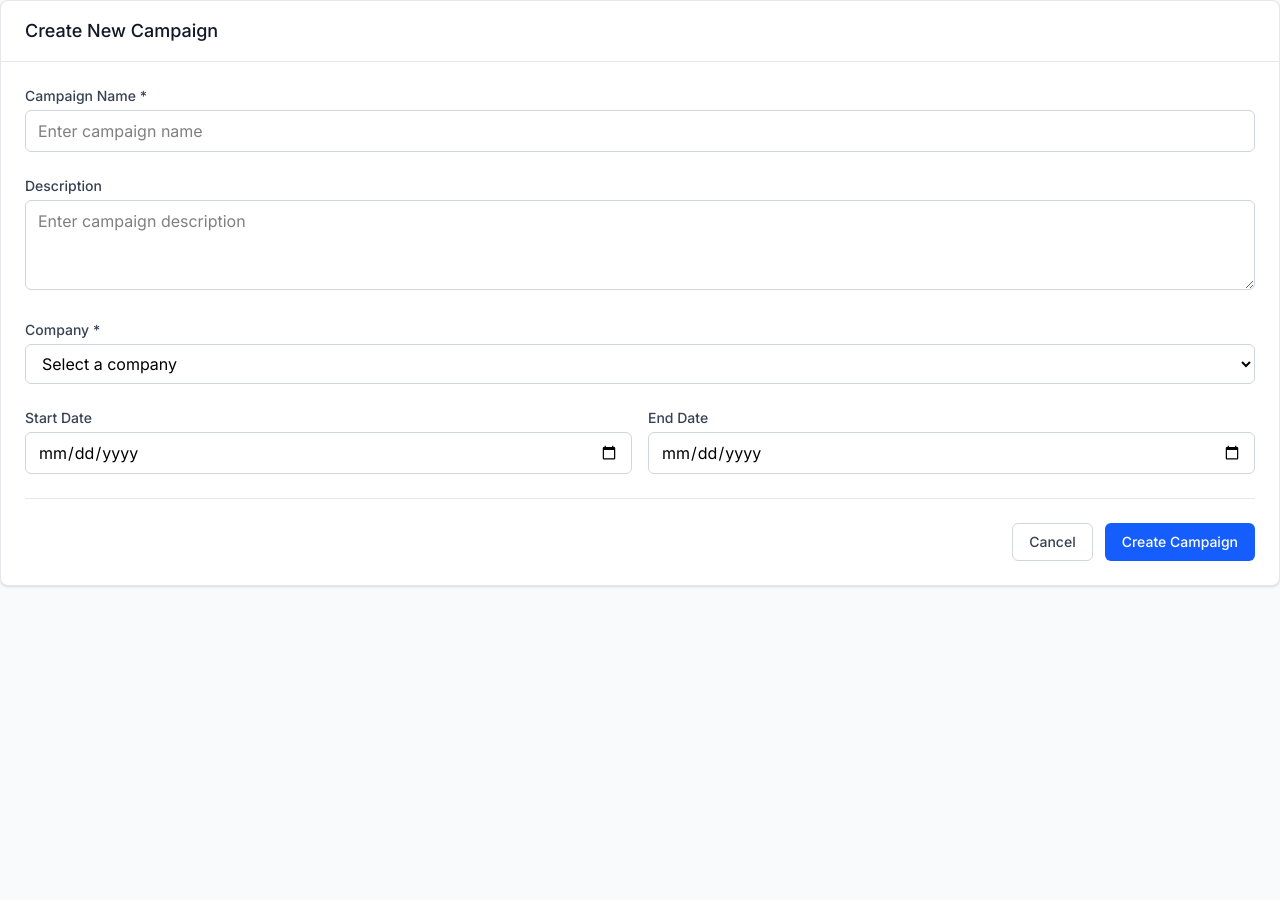
Test case: CampaignForm › Form Validation › shows error when end date is before start date
Check: the heading "Create New Campaign" is shown, box [25,20,218,41]
Fill required fields with invalid date range
Step 1. Type "Test Campaign" into the field labelled "Campaign Name *" → (640, 131), box [25,110,1255,152]
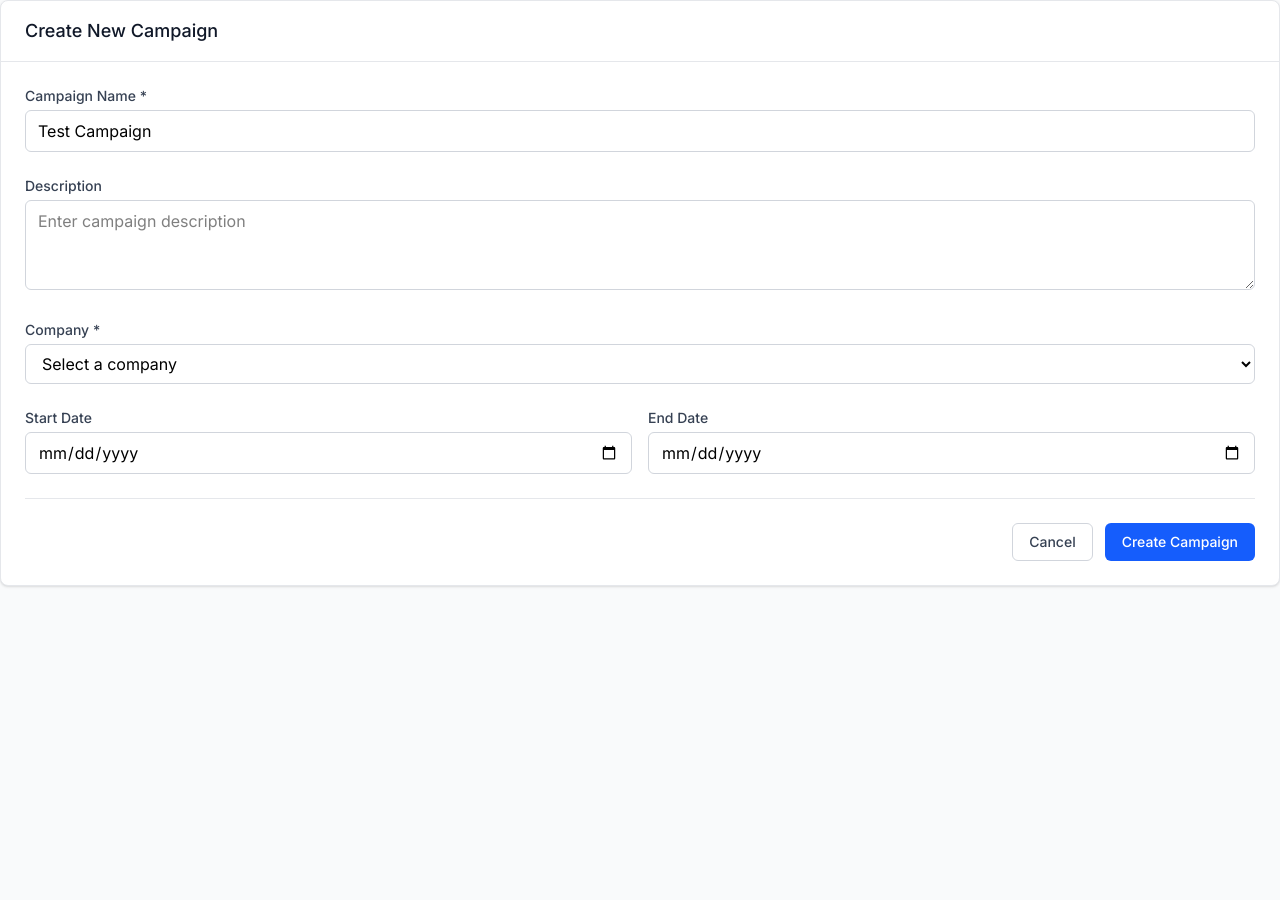
Step 2. Select "Test Company 1" in the dropdown labelled "Company *" → (640, 364), box [25,344,1255,384]
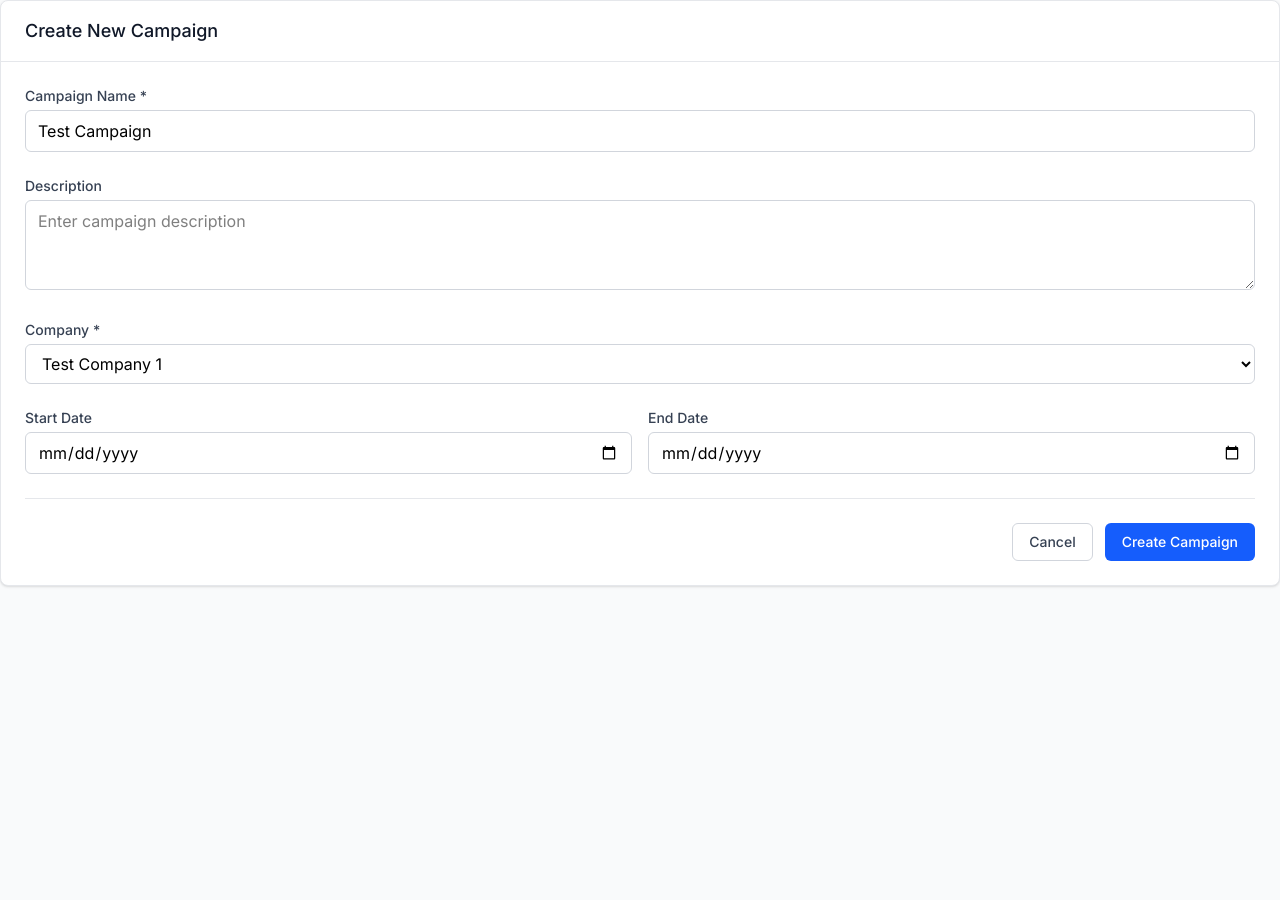
Step 3. Type "2024-03-31" into the date field labelled "Start Date" → (328, 453), box [25,432,632,474]
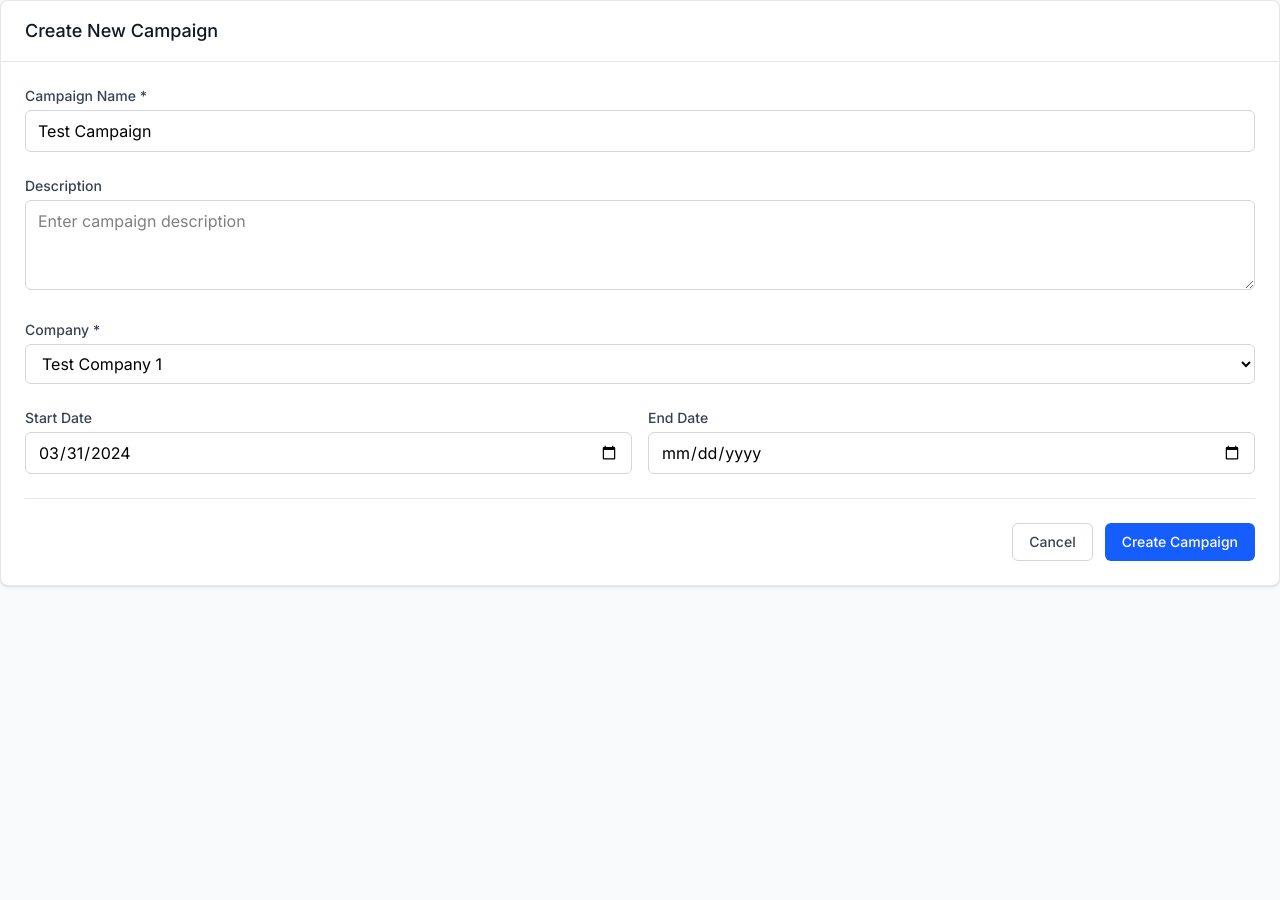
Step 4. Type "2024-03-01" into the date field labelled "End Date" → (952, 453), box [648,432,1255,474]
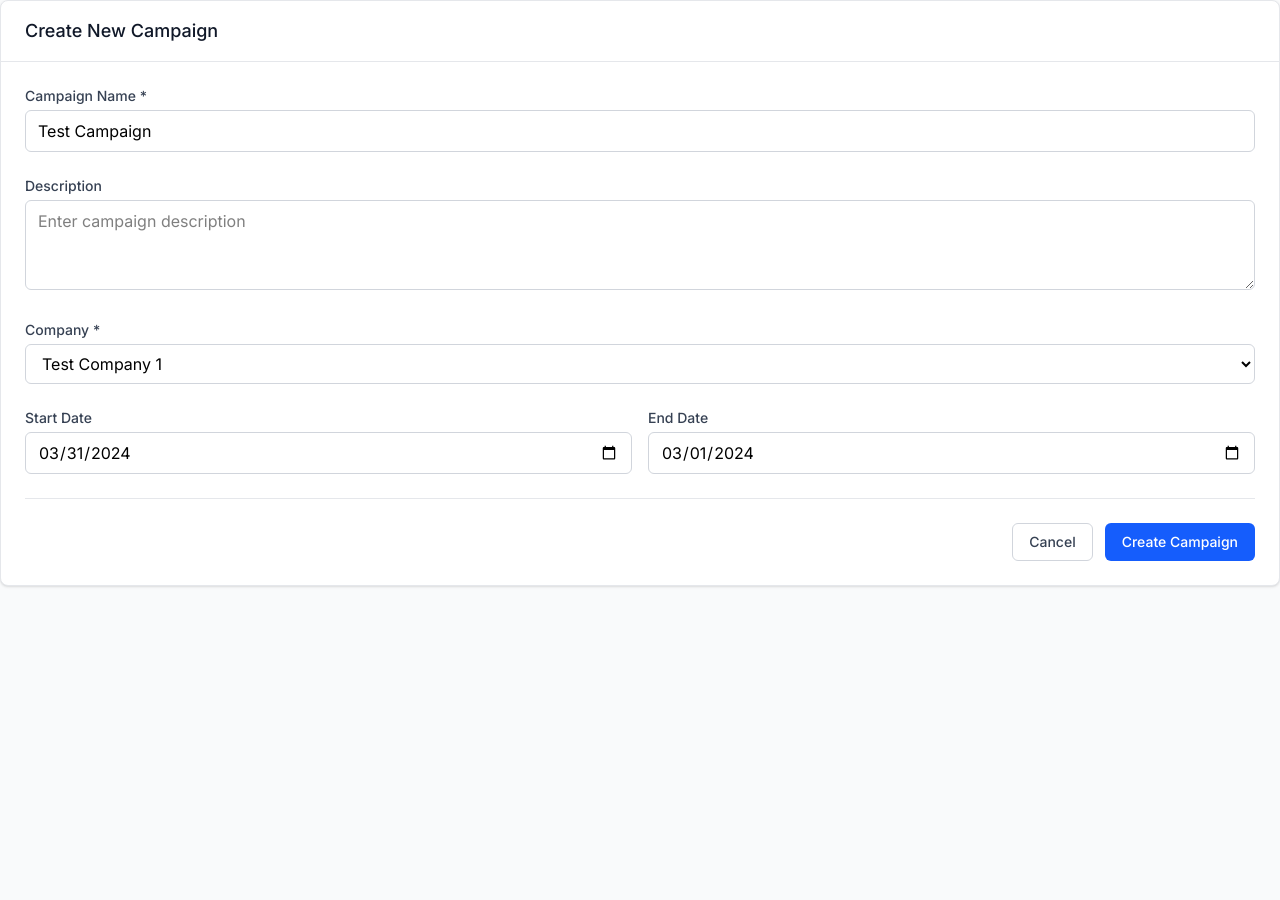
Step 5. Click the button "Create Campaign" → (1180, 542), box [1105,523,1255,561]
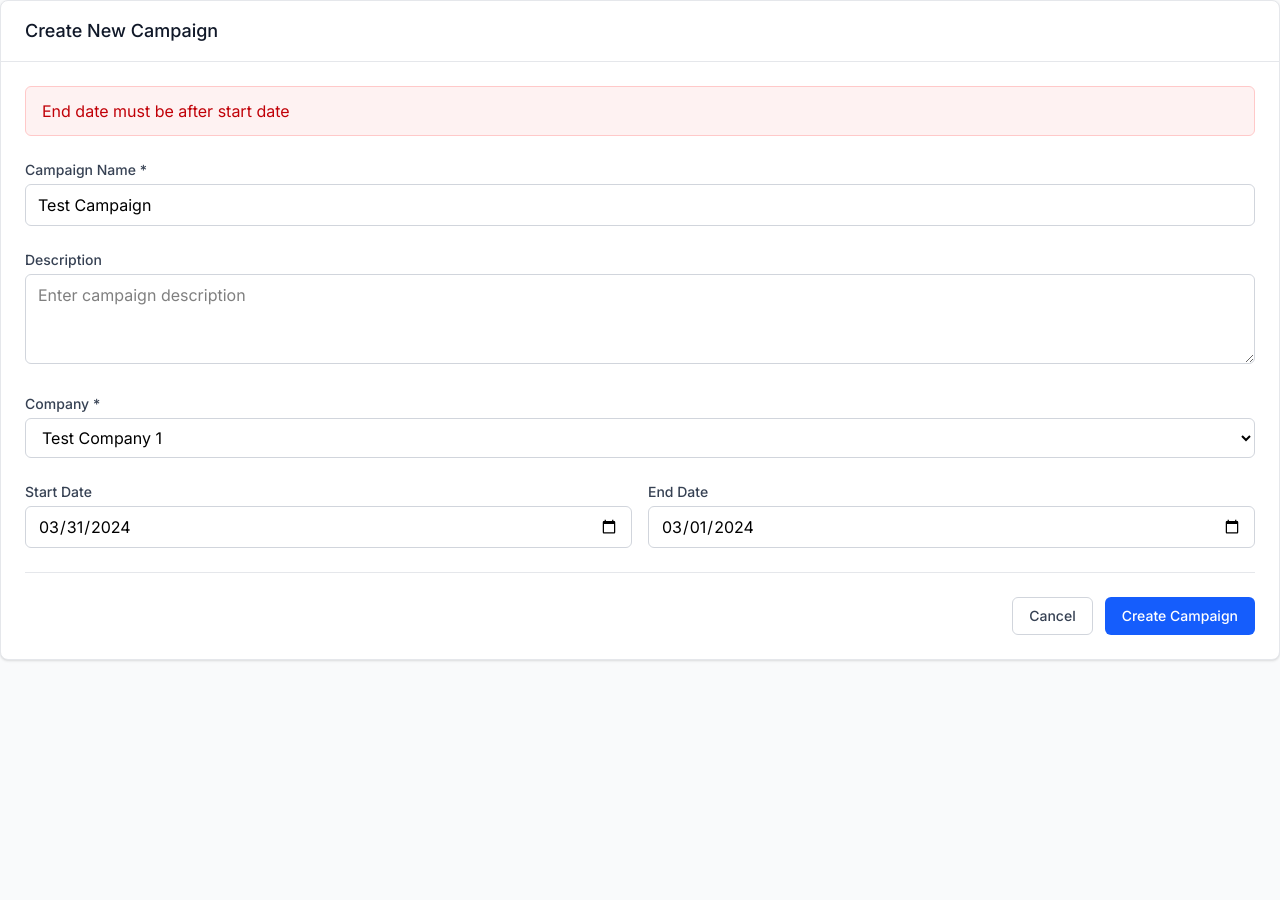
Check: the text "End date must be after start date" is shown, box [25,86,1255,136]
